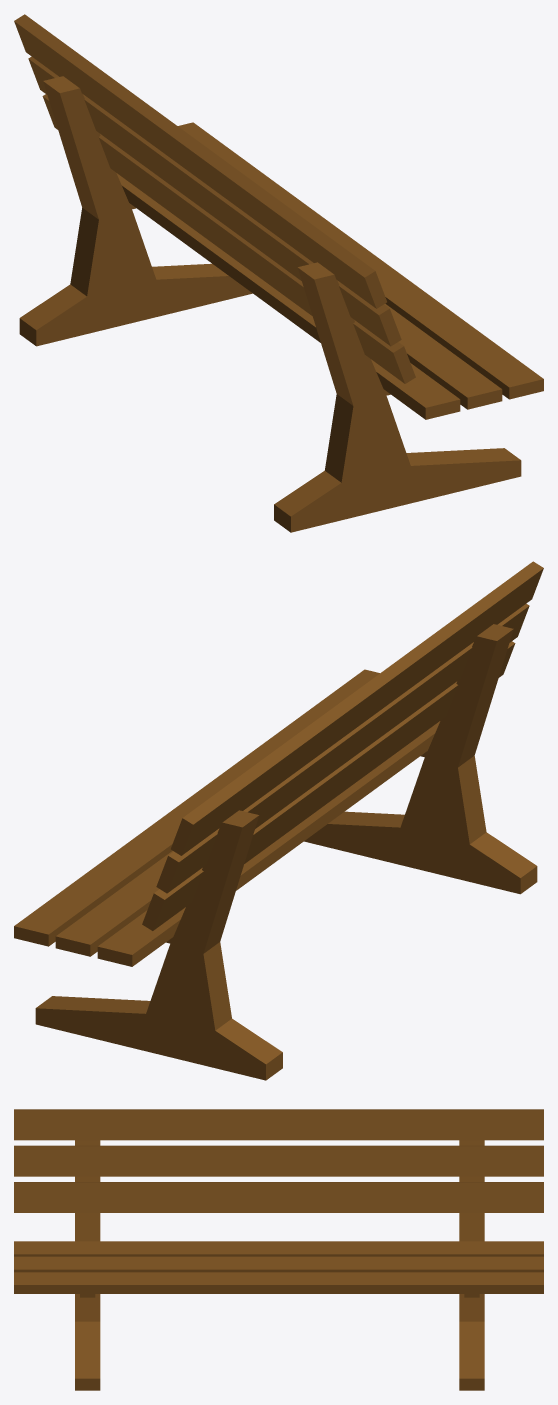
Rendered from suoliukas #1.fbx.
3 renders of one model, top to bottom at view 1: azimuth 30°, elevation 25°; view 2: azimuth 150°, elevation 25°; view 3: azimuth 270°, elevation 25°, orthographic. The views are drawn at different scales.
Visible parts, largest first — view 1: Bench_A; view 2: Bench_A; view 3: Bench_A.
Part boxes in pixels (x1,y1,x2,y2): Bench_A: (14, 14, 543, 532); Bench_A: (14, 561, 543, 1080); Bench_A: (14, 1109, 543, 1390).
Size of the model in its own units: 95.69 by 111 by 252.
